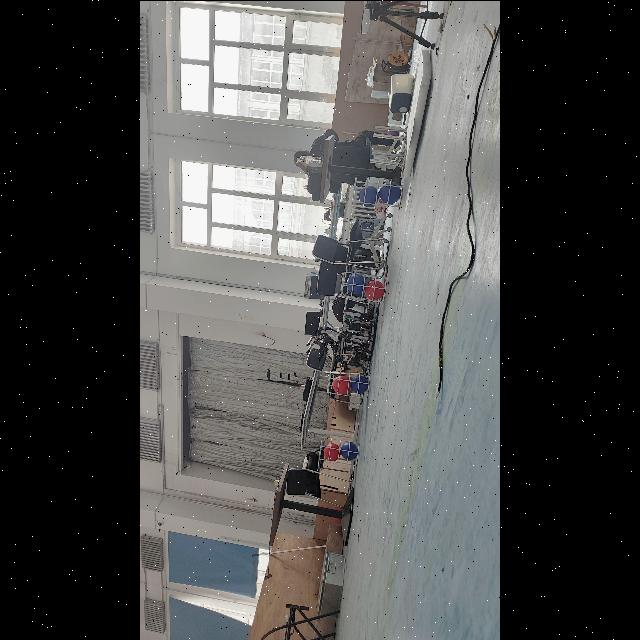B: (358, 186, 379, 207), (380, 181, 400, 203), (346, 273, 366, 293), (342, 441, 358, 461), (352, 373, 368, 392)
R: (366, 279, 384, 299), (332, 374, 348, 394), (324, 443, 340, 461)
S: (351, 176, 405, 210), (338, 270, 388, 304), (326, 368, 372, 400), (317, 436, 361, 468)
